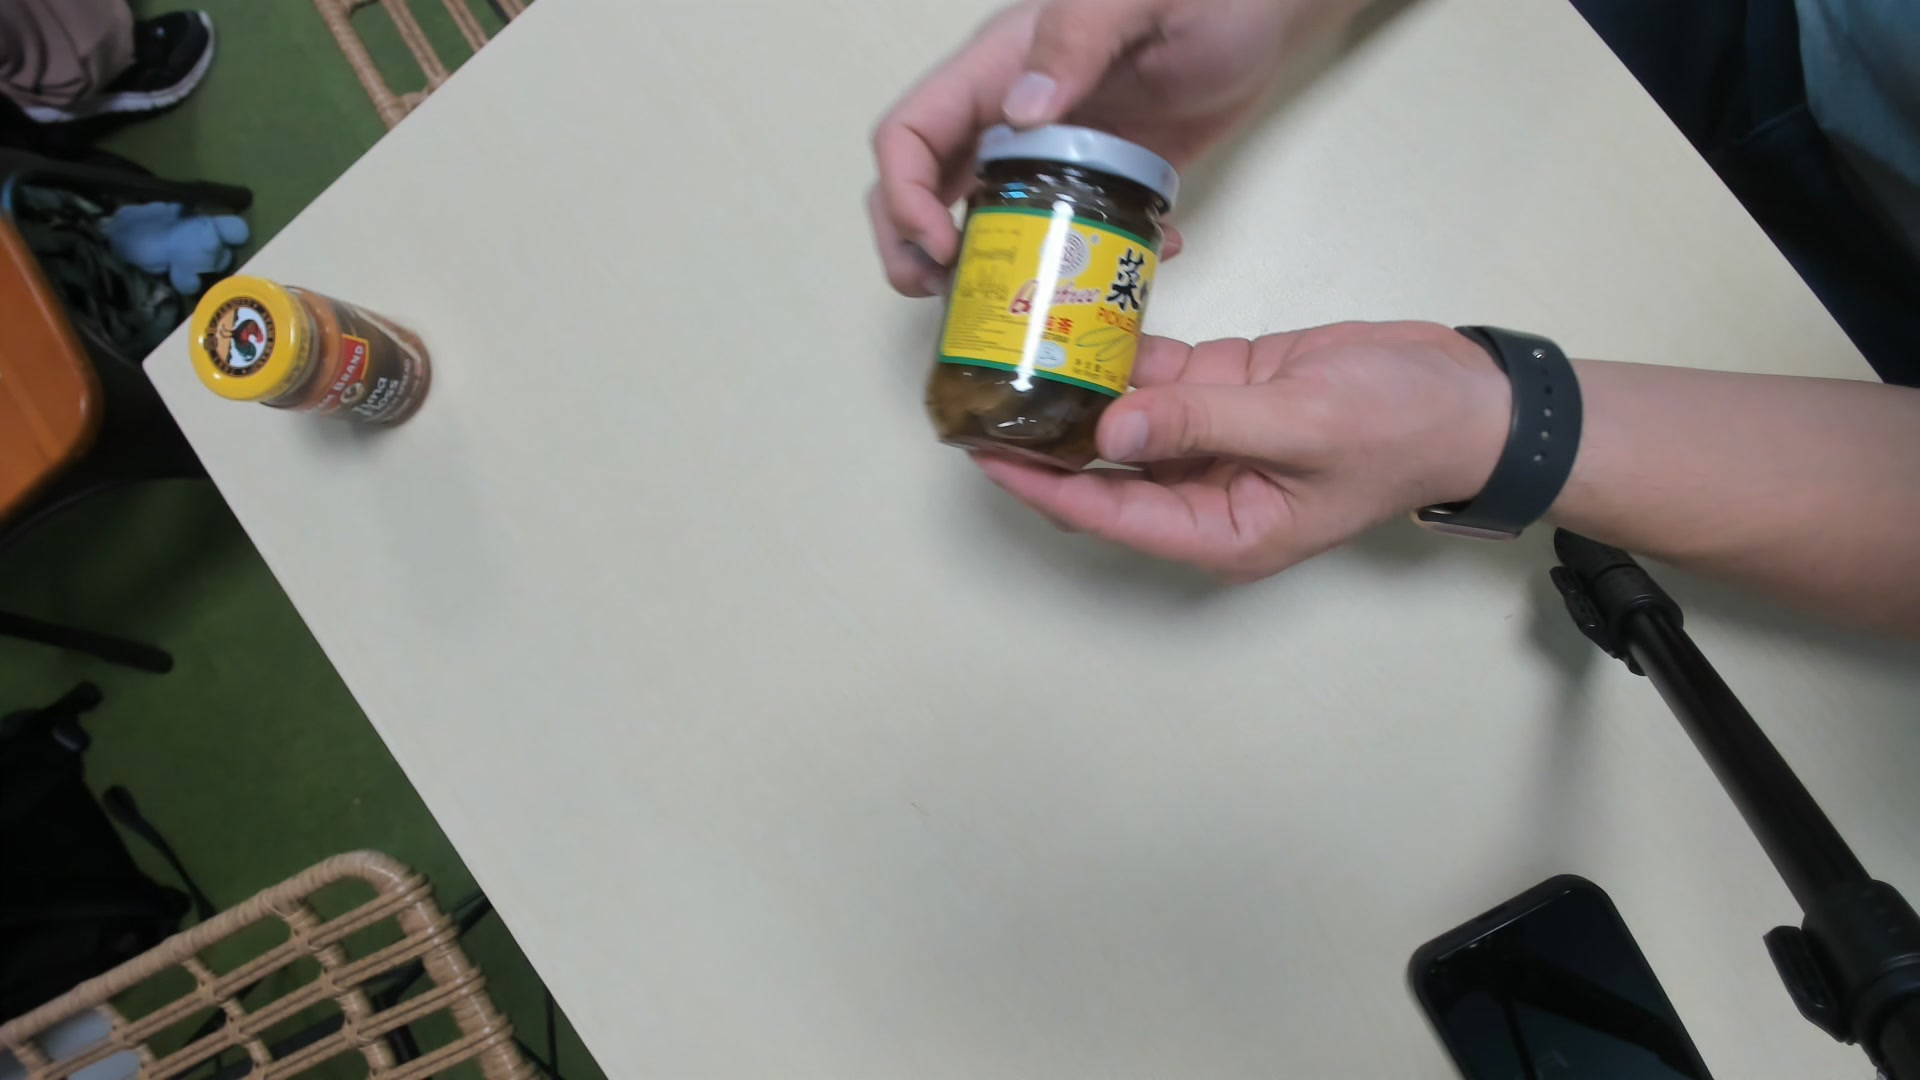OtherSauceDressing_200-299g_Halal_NonHealthy: (923, 116, 1180, 469)
